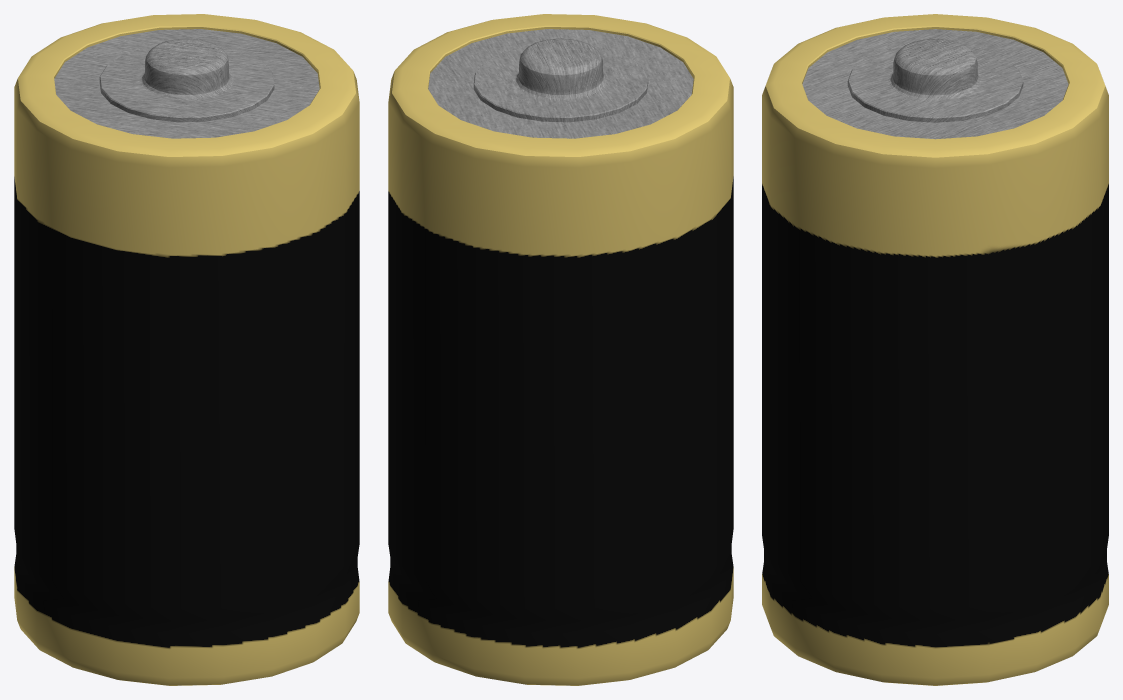
The model's file is denti.fbx.
3 renders of one model, left to right at view 1: azimuth 30°, elevation 25°; view 2: azimuth 150°, elevation 25°; view 3: azimuth 270°, elevation 25°, orthographic.
Parts seen in each view (by area): view 1: denti; view 2: denti; view 3: denti.
Boxes of the visible parts, box(x1,y1,x2,y2) form: denti: box(14, 14, 359, 685); denti: box(388, 14, 733, 685); denti: box(762, 14, 1108, 685).
Bounding box in the file's own units: 24.12 × 43.61 × 24.12.
1 material, 1 textured.
